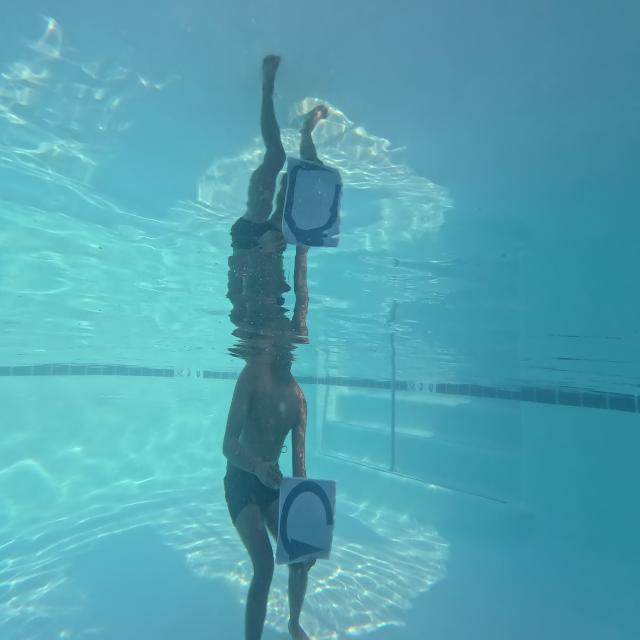blue_side: (279, 470, 337, 570)
